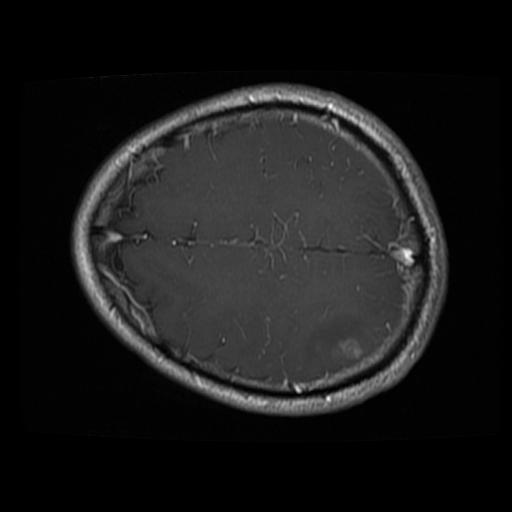glioma: (301, 319, 377, 374)
